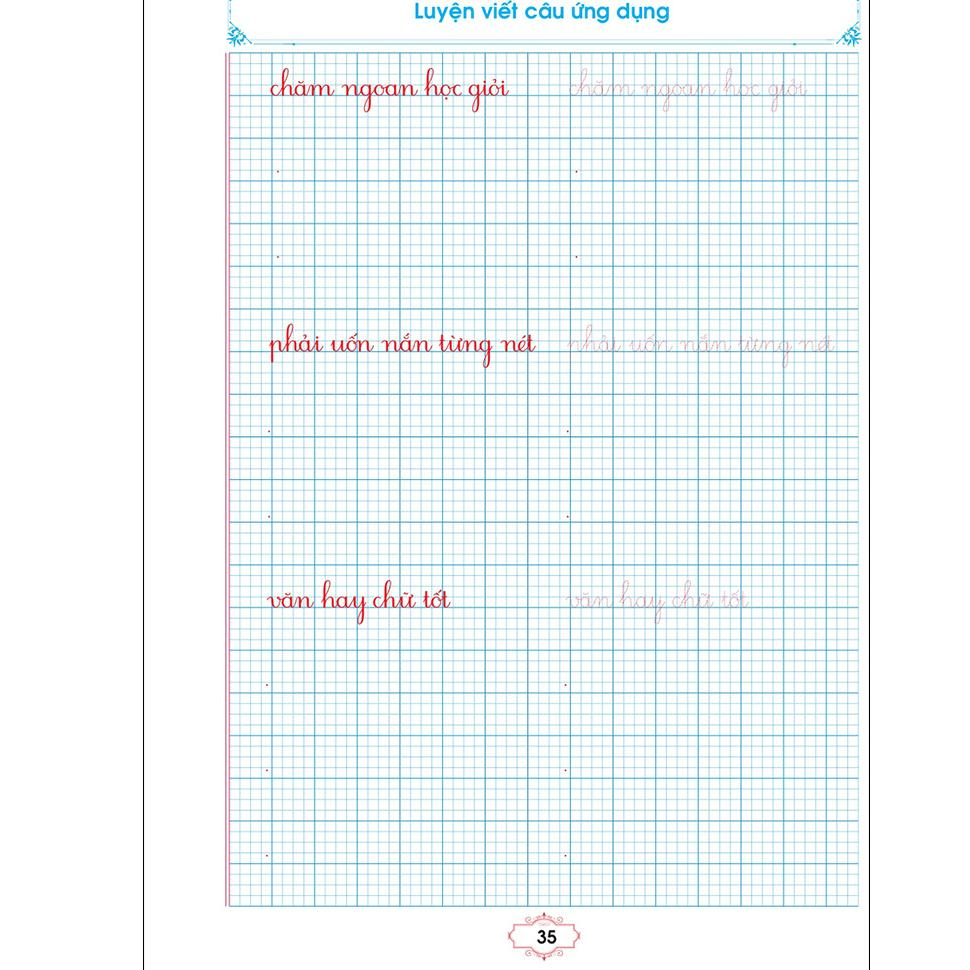text: (267, 320, 540, 371), (564, 322, 838, 372), (268, 62, 512, 118), (564, 63, 811, 114), (264, 578, 454, 629), (564, 578, 755, 628), (411, 0, 672, 26), (534, 926, 560, 946)
